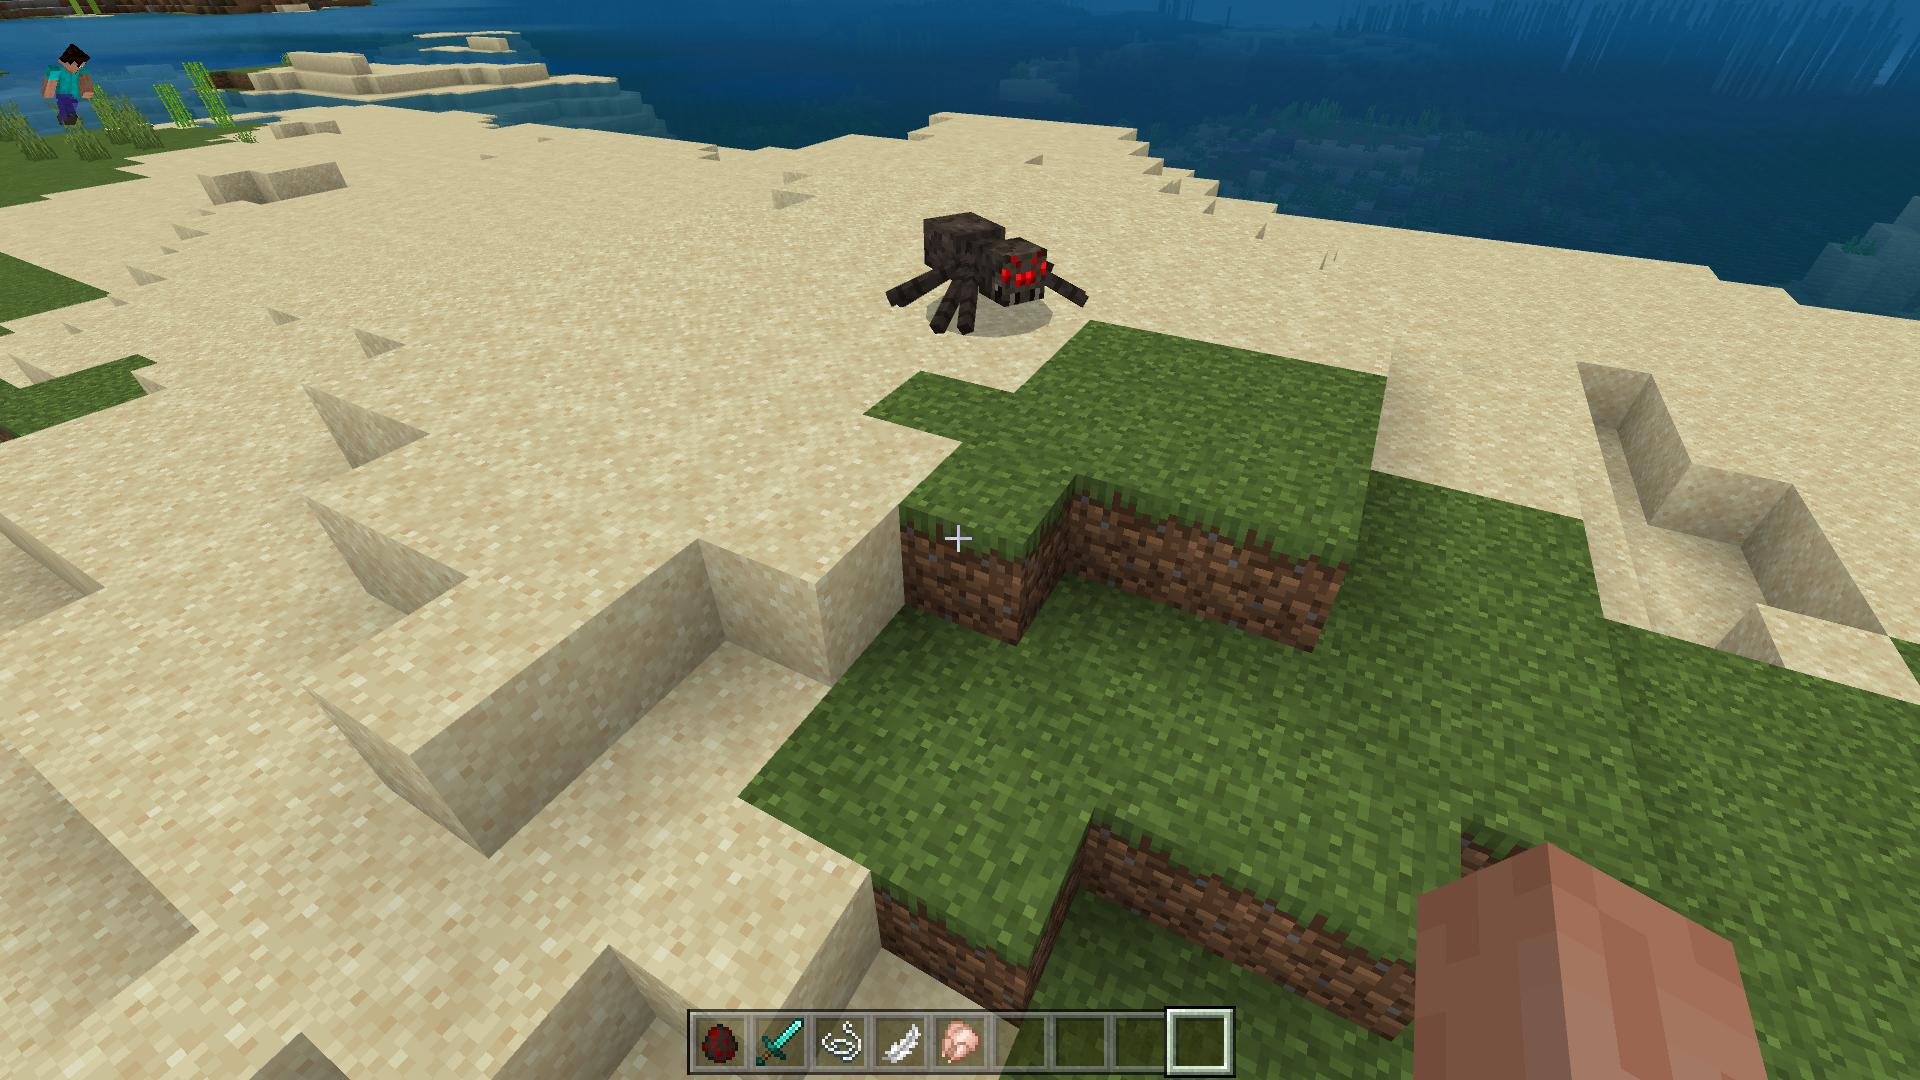spider: (890, 208, 1092, 336)
